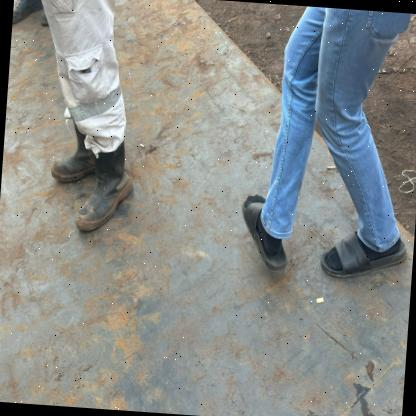bota: (70, 142, 135, 235), (38, 116, 112, 184)
